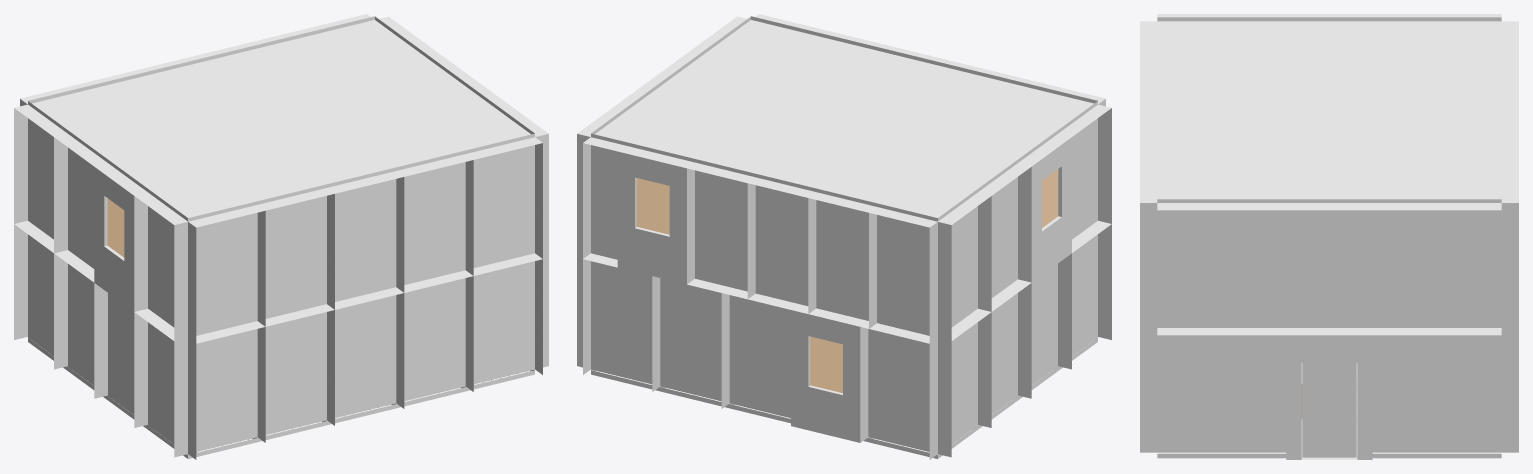
File: int_morada_casa_grande.glb
3 renders of one model, left to right at view 1: azimuth 30°, elevation 25°; view 2: azimuth 150°, elevation 25°; view 3: azimuth 270°, elevation 25°, orthographic. The views are drawn at different scales.
Parts seen in each view (by area): view 1: INT_Morada_Casa_Grande_WALL_Near_A, INT_Morada_Casa_Grande_CEILING, INT_Morada_Casa_Grande_Shell, INT_Morada_Casa_Grande_WALL_Near_B, KITI_INT_Fireplace, INT_Morada_Casa_Grande_LEVEL_1; view 2: INT_Morada_Casa_Grande_Shell, INT_Morada_Casa_Grande_CEILING, INT_Morada_Casa_Grande_WALL_Near_B, INT_Morada_Casa_Grande_WALL_Near_A, KITI_INT_Fireplace; view 3: INT_Morada_Casa_Grande_WALL_Near_B, INT_Morada_Casa_Grande_CEILING, INT_Morada_Casa_Grande_Shell, INT_Morada_Casa_Grande_WALL_Near_A.
Part boxes in pixels (bbox=[...]): INT_Morada_Casa_Grande_WALL_Near_A: bbox=[188, 137, 542, 459]; INT_Morada_Casa_Grande_CEILING: bbox=[28, 16, 534, 232]; INT_Morada_Casa_Grande_Shell: bbox=[14, 14, 534, 458]; INT_Morada_Casa_Grande_WALL_Near_B: bbox=[379, 16, 548, 369]; KITI_INT_Fireplace: bbox=[32, 245, 53, 355]; INT_Morada_Casa_Grande_LEVEL_1: bbox=[68, 264, 326, 347]; INT_Morada_Casa_Grande_Shell: bbox=[583, 104, 1111, 459]; INT_Morada_Casa_Grande_CEILING: bbox=[591, 16, 1097, 231]; INT_Morada_Casa_Grande_WALL_Near_B: bbox=[577, 16, 746, 369]; INT_Morada_Casa_Grande_WALL_Near_A: bbox=[755, 14, 1105, 336]; KITI_INT_Fireplace: bbox=[951, 330, 977, 442]; INT_Morada_Casa_Grande_WALL_Near_B: bbox=[1157, 203, 1501, 459]; INT_Morada_Casa_Grande_CEILING: bbox=[1157, 17, 1501, 214]; INT_Morada_Casa_Grande_Shell: bbox=[1157, 14, 1518, 458]; INT_Morada_Casa_Grande_WALL_Near_A: bbox=[1140, 21, 1159, 452].
Size of what is drawn, in the model's own units: 10.8 by 6.64 by 8.8.
26 materials, 20 textured.
